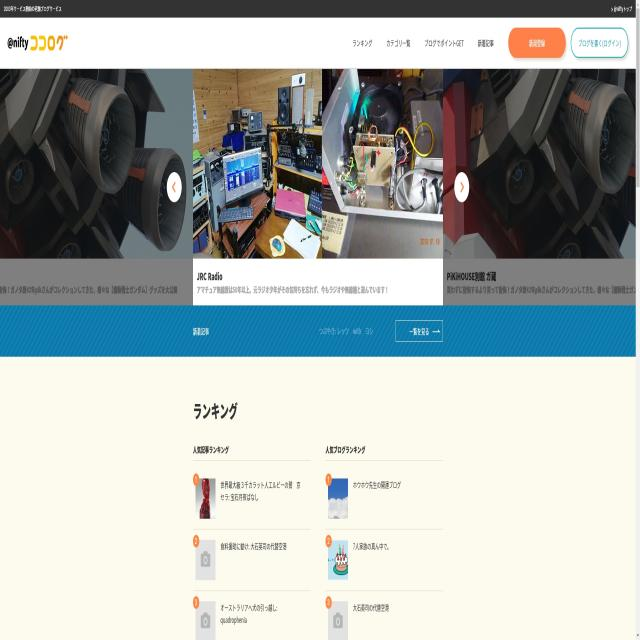menu-bar: (340, 24, 632, 62)
